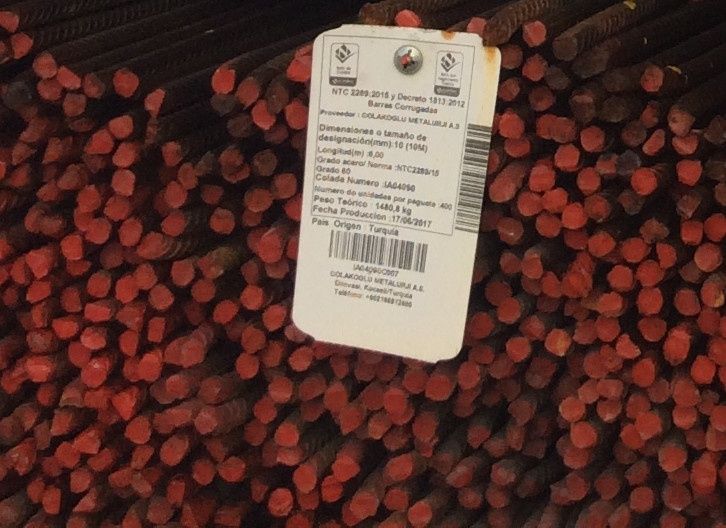dipstick: (159, 435, 189, 468), (571, 87, 598, 123), (573, 50, 606, 77), (664, 330, 689, 364), (691, 459, 714, 495), (527, 357, 554, 387), (561, 269, 589, 297), (497, 217, 524, 245), (482, 18, 509, 46), (675, 159, 702, 186), (116, 306, 144, 332), (385, 453, 413, 479), (696, 243, 722, 271), (661, 486, 692, 509), (113, 71, 139, 98), (208, 208, 235, 234), (27, 356, 54, 382), (196, 253, 223, 279), (194, 409, 221, 435), (161, 208, 186, 236), (408, 500, 433, 528), (243, 187, 272, 211), (170, 259, 194, 288), (637, 317, 666, 341), (704, 114, 726, 145), (358, 4, 389, 26), (125, 418, 151, 444), (147, 497, 173, 523), (637, 288, 663, 314), (535, 211, 561, 237), (528, 166, 554, 192), (4, 83, 29, 110), (251, 149, 276, 176), (268, 489, 293, 516), (452, 390, 477, 417), (570, 422, 597, 447), (51, 316, 79, 340), (470, 311, 494, 339), (586, 500, 610, 528), (658, 446, 686, 470), (284, 102, 308, 130), (704, 213, 726, 243), (80, 364, 106, 389), (149, 285, 175, 310), (299, 375, 325, 400), (636, 261, 662, 286), (589, 232, 615, 257), (585, 195, 610, 221), (550, 117, 575, 143), (57, 63, 81, 90), (211, 66, 235, 93), (675, 287, 699, 314), (580, 126, 604, 153), (250, 101, 273, 129), (2, 368, 25, 396), (546, 328, 569, 356), (608, 264, 631, 292), (620, 239, 648, 262), (641, 219, 669, 242), (619, 192, 647, 215), (702, 278, 723, 308), (86, 271, 110, 297), (562, 203, 586, 229), (676, 193, 700, 219), (109, 469, 132, 496), (412, 414, 435, 441), (483, 486, 510, 509), (489, 463, 516, 486), (596, 315, 619, 342), (523, 20, 546, 47), (27, 251, 49, 279), (632, 359, 654, 387), (60, 285, 81, 314), (138, 232, 162, 257), (163, 183, 188, 207), (21, 307, 45, 332), (26, 332, 56, 352), (130, 445, 154, 470), (241, 327, 265, 352), (521, 315, 545, 340), (629, 488, 654, 512), (517, 192, 542, 216), (633, 170, 658, 194), (600, 97, 624, 122), (497, 77, 521, 102), (552, 36, 576, 61), (33, 52, 56, 78), (162, 141, 185, 167), (236, 78, 259, 104), (219, 146, 242, 172), (51, 409, 74, 435), (218, 458, 244, 481), (269, 377, 292, 403), (490, 353, 513, 379), (692, 357, 715, 383), (680, 219, 703, 245), (488, 180, 514, 203), (554, 144, 580, 167), (622, 121, 645, 147), (530, 86, 553, 112), (522, 54, 545, 80), (226, 114, 253, 136), (1, 413, 23, 440), (56, 441, 78, 468), (333, 457, 360, 479), (673, 385, 700, 407), (11, 142, 39, 163), (83, 301, 111, 322), (213, 507, 241, 528), (289, 347, 313, 371), (508, 400, 532, 424), (542, 189, 566, 213), (499, 114, 523, 138), (88, 131, 113, 154), (134, 264, 157, 289), (198, 377, 221, 402), (235, 353, 258, 378), (403, 370, 426, 395), (608, 503, 631, 528), (486, 280, 511, 303), (642, 129, 665, 154), (640, 67, 663, 92), (144, 89, 166, 115), (112, 170, 134, 196), (104, 199, 130, 221), (119, 219, 141, 245), (139, 356, 161, 382), (293, 465, 315, 491), (457, 362, 479, 388), (566, 473, 588, 499), (288, 55, 310, 81), (8, 447, 29, 474), (299, 402, 326, 423), (80, 328, 108, 348), (7, 164, 31, 187), (273, 174, 296, 198), (192, 460, 216, 483), (354, 493, 377, 517), (485, 436, 509, 459), (560, 398, 584, 421), (637, 414, 661, 437), (616, 150, 639, 174), (112, 143, 134, 168), (59, 386, 84, 408), (263, 305, 285, 330), (240, 284, 262, 309), (361, 384, 383, 409), (448, 466, 473, 488), (497, 299, 519, 324), (577, 168, 599, 193), (83, 72, 104, 98), (113, 393, 134, 419), (319, 476, 340, 502), (369, 413, 390, 439), (585, 353, 606, 379), (574, 319, 595, 345), (62, 233, 82, 260), (323, 386, 346, 409), (384, 490, 407, 513), (466, 425, 489, 448), (191, 280, 215, 302), (212, 300, 236, 322), (72, 490, 96, 512), (275, 425, 299, 447), (377, 357, 399, 381), (544, 66, 568, 88), (68, 342, 89, 367), (83, 388, 108, 409), (119, 330, 140, 355), (181, 342, 202, 367), (564, 229, 589, 250), (563, 448, 589, 468), (602, 71, 629, 90), (110, 115, 132, 138), (22, 120, 45, 142), (89, 449, 112, 471), (167, 374, 189, 397), (628, 395, 650, 418), (499, 47, 522, 69), (11, 33, 32, 57), (79, 187, 100, 211), (25, 281, 49, 302), (115, 277, 136, 301), (36, 382, 57, 406), (384, 428, 408, 449), (595, 477, 619, 498), (622, 424, 643, 448), (240, 261, 261, 285), (198, 183, 223, 203), (294, 491, 319, 511), (329, 355, 349, 380), (699, 310, 719, 335), (395, 10, 421, 29), (25, 206, 43, 233), (255, 400, 277, 422), (426, 377, 448, 399), (499, 252, 521, 274), (87, 219, 108, 242), (100, 245, 121, 268), (77, 432, 100, 453), (243, 422, 264, 445), (204, 438, 227, 459), (613, 442, 636, 463), (619, 335, 640, 358), (679, 259, 700, 282), (64, 93, 84, 117), (516, 474, 536, 498), (673, 407, 697, 427), (659, 512, 689, 528), (164, 337, 181, 365), (167, 479, 184, 507), (598, 380, 623, 399), (341, 409, 359, 435), (35, 421, 51, 450), (169, 406, 191, 427), (353, 360, 375, 381), (383, 391, 405, 412), (507, 340, 529, 361), (625, 461, 646, 483), (705, 157, 726, 179), (259, 239, 280, 261), (59, 167, 79, 190), (133, 474, 153, 497), (597, 400, 620, 420), (43, 486, 60, 513), (262, 441, 279, 468), (17, 405, 36, 429), (278, 446, 302, 465), (498, 380, 522, 399), (147, 317, 165, 342), (340, 498, 358, 523), (543, 271, 561, 296), (504, 138, 529, 156), (672, 136, 697, 154), (658, 242, 675, 268), (211, 93, 232, 114), (152, 413, 173, 434), (430, 451, 451, 472), (548, 484, 569, 505), (602, 348, 623, 369), (685, 429, 706, 450), (181, 506, 201, 528), (579, 380, 599, 402), (649, 380, 669, 402), (599, 292, 621, 312), (70, 469, 89, 492), (261, 343, 280, 366), (522, 255, 541, 278), (596, 151, 615, 174), (179, 163, 197, 187), (122, 359, 140, 383), (469, 346, 493, 364), (700, 389, 718, 413), (38, 79, 59, 99), (73, 209, 92, 231), (151, 383, 170, 405), (66, 259, 89, 277), (285, 197, 303, 220), (709, 340, 726, 364), (12, 255, 26, 284), (459, 489, 479, 509), (526, 439, 546, 459), (43, 139, 61, 161), (520, 277, 542, 295), (709, 408, 726, 431), (251, 479, 267, 503), (508, 426, 524, 450), (265, 126, 286, 144), (28, 479, 44, 502), (39, 457, 58, 476), (1, 12, 19, 32), (82, 155, 102, 173), (536, 115, 551, 139), (466, 18, 486, 36), (287, 230, 299, 260), (4, 287, 21, 308), (41, 217, 63, 233), (239, 210, 261, 226), (536, 297, 558, 313), (265, 261, 287, 277), (269, 88, 284, 111), (641, 104, 656, 127), (247, 229, 260, 255), (708, 429, 723, 450), (38, 164, 58, 179), (669, 469, 688, 484)
